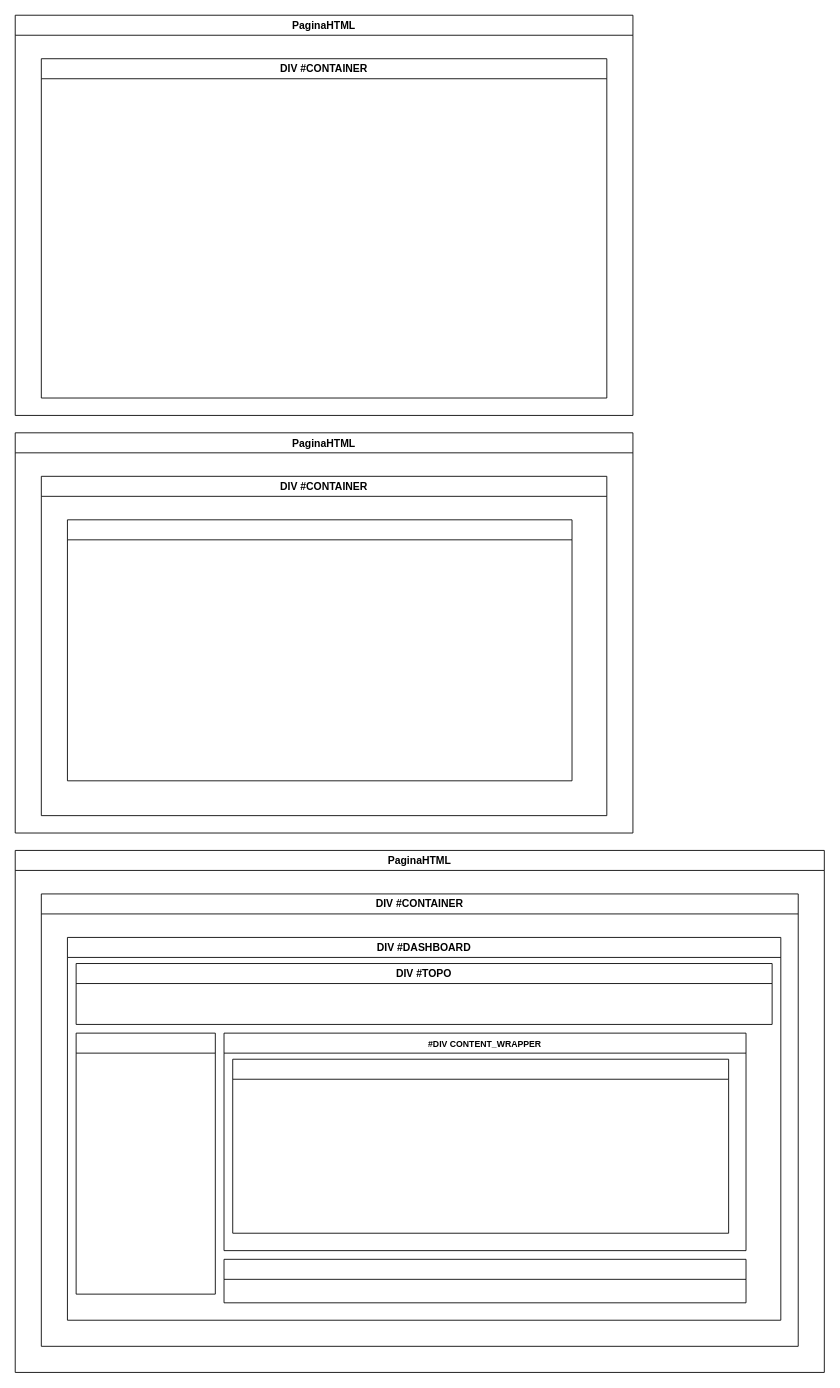
This 840x1388 diagram has some shape labels left out. Each missing label, with the centre of its shape:
"#DIV FOOTER" belongs at [484,1280].
"DIV #CONTEUDO" belongs at [480,1145].
"DIV #FORMULARIO LOGIN" belongs at [319,650].
"DIV #MENU_ESQUERDO" belongs at [145,1163].
